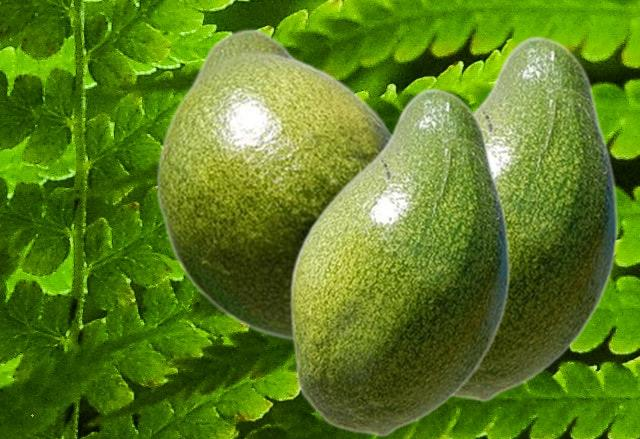avocado: (289, 87, 510, 436), (155, 28, 391, 342), (450, 35, 618, 401)
